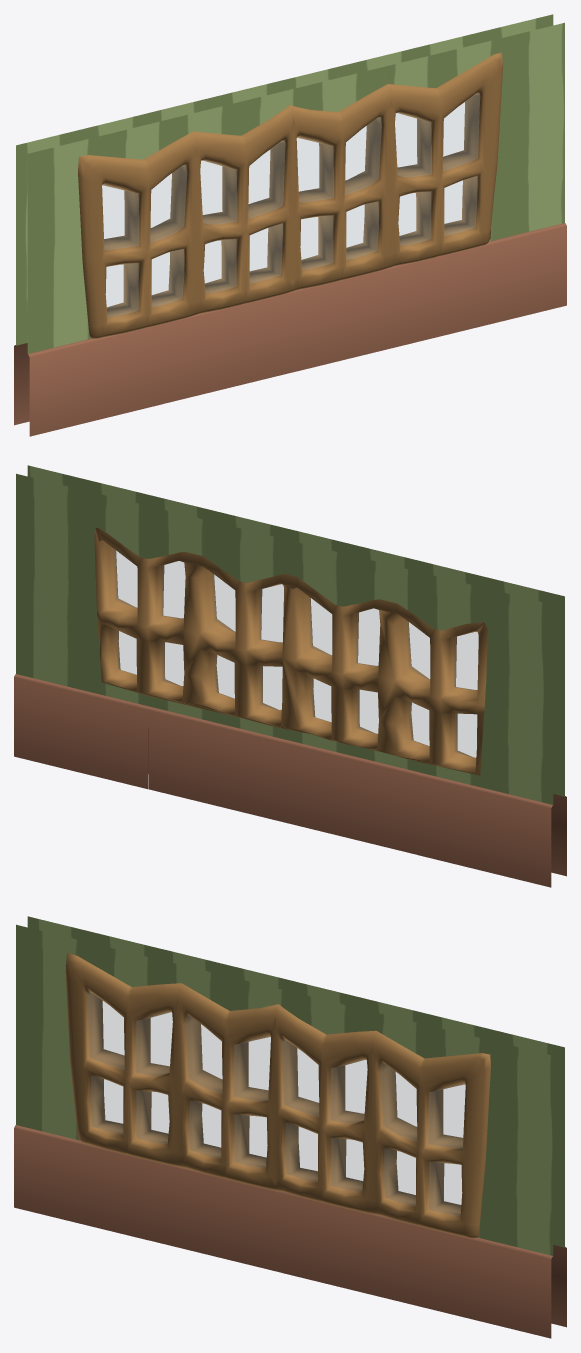
File: VENTANA CUATRUPLES1.fbx
The picture shows the model from 3 angles, top to bottom: view 1: azimuth 30°, elevation 25°; view 2: azimuth 150°, elevation 25°; view 3: azimuth 330°, elevation 25°; orthographic projection.
Visible parts, largest first — view 1: Cube.003, Props_window1.001; view 2: Cube.003, Props_window1.001; view 3: Cube.003, Props_window1.001.
Boxes of the visible parts, bbox=[...] form: Cube.003: bbox=[14, 14, 566, 436]; Props_window1.001: bbox=[78, 52, 502, 338]; Cube.003: bbox=[14, 465, 566, 887]; Props_window1.001: bbox=[94, 528, 487, 775]; Cube.003: bbox=[14, 916, 566, 1338]; Props_window1.001: bbox=[65, 953, 490, 1238].
Size of the model in its own units: 1199 by 600 by 72.14.
